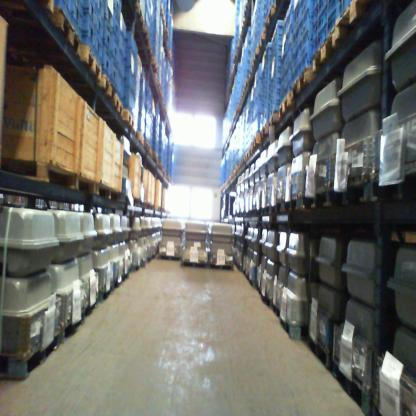pallet: (3, 329, 60, 382), (0, 156, 75, 190), (331, 359, 372, 415), (372, 162, 416, 202), (52, 6, 81, 59), (336, 0, 369, 42), (328, 174, 371, 206), (312, 28, 335, 73), (307, 330, 332, 369), (290, 66, 316, 101), (58, 309, 84, 343), (80, 45, 101, 81), (279, 315, 308, 340), (299, 187, 329, 210), (96, 73, 116, 105), (278, 91, 294, 119), (83, 294, 99, 319), (76, 174, 96, 193), (99, 280, 113, 303), (122, 108, 134, 129), (96, 183, 110, 200), (209, 262, 235, 271), (265, 5, 274, 30), (181, 260, 207, 268), (268, 112, 279, 130), (114, 94, 123, 116), (260, 291, 271, 309), (283, 199, 298, 212), (251, 47, 260, 68), (40, 0, 53, 14), (111, 275, 122, 291), (259, 124, 269, 141), (136, 7, 144, 28), (271, 302, 281, 318), (270, 202, 283, 214), (159, 254, 181, 261), (251, 135, 260, 150), (258, 31, 265, 50), (372, 402, 381, 416), (110, 189, 120, 201), (137, 131, 144, 146), (144, 141, 151, 154), (261, 205, 270, 215), (121, 272, 129, 283), (152, 59, 158, 71), (132, 128, 137, 138), (249, 146, 254, 156), (147, 203, 154, 210), (237, 161, 242, 170), (245, 151, 249, 161), (241, 157, 245, 165)
small_load_carrier: (82, 11, 96, 47), (83, 0, 96, 29), (70, 0, 82, 29), (102, 44, 111, 75), (103, 18, 111, 52), (104, 0, 113, 29), (110, 33, 118, 62), (113, 7, 120, 40), (95, 29, 102, 61), (110, 54, 117, 85), (96, 9, 103, 39), (113, 0, 121, 19), (96, 0, 102, 16), (64, 0, 70, 12)
